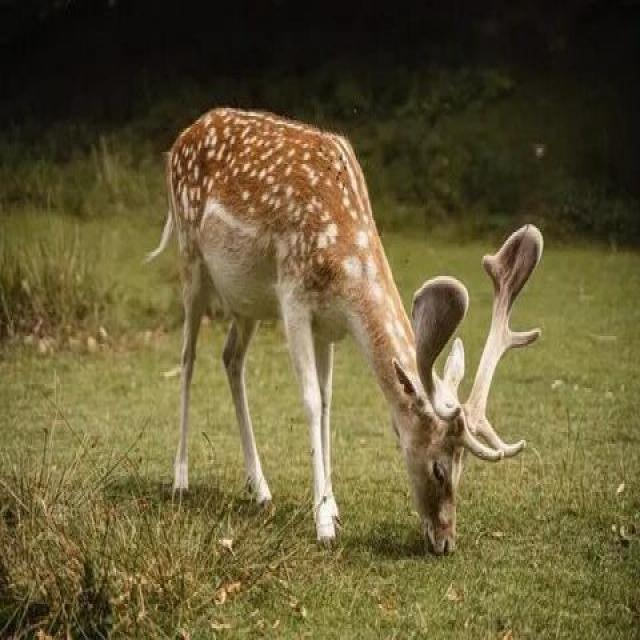deer: (169, 87, 531, 566)
